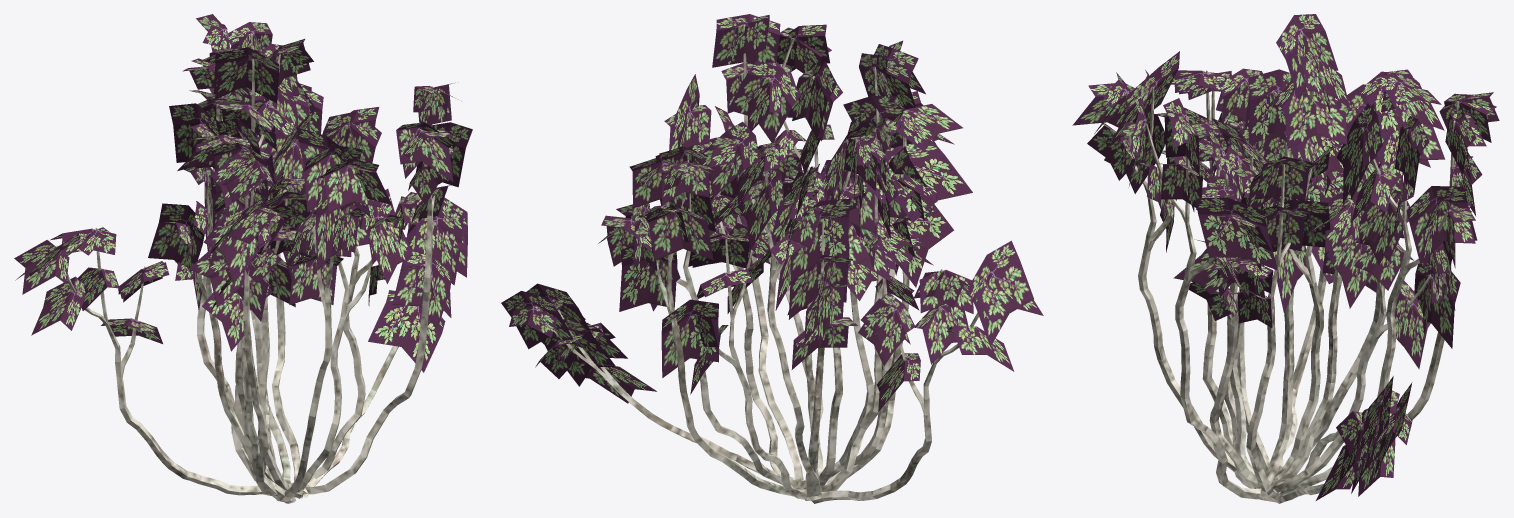
File: bush_4.obj
The picture shows the model from 3 angles, left to right: view 1: azimuth 30°, elevation 25°; view 2: azimuth 150°, elevation 25°; view 3: azimuth 270°, elevation 25°; orthographic projection. The views are drawn at different scales.
Parts seen in each view (by area): view 1: Bush_1_3; view 2: Bush_1_3; view 3: Bush_1_3.
Part boxes in pixels (<box>): Bush_1_3: <box>14,14,472,503</box>; Bush_1_3: <box>501,14,1043,503</box>; Bush_1_3: <box>1072,14,1499,503</box>.
Size of the model in its own units: 0.8022 by 0.6972 by 0.5819.
1 material, 1 textured.
